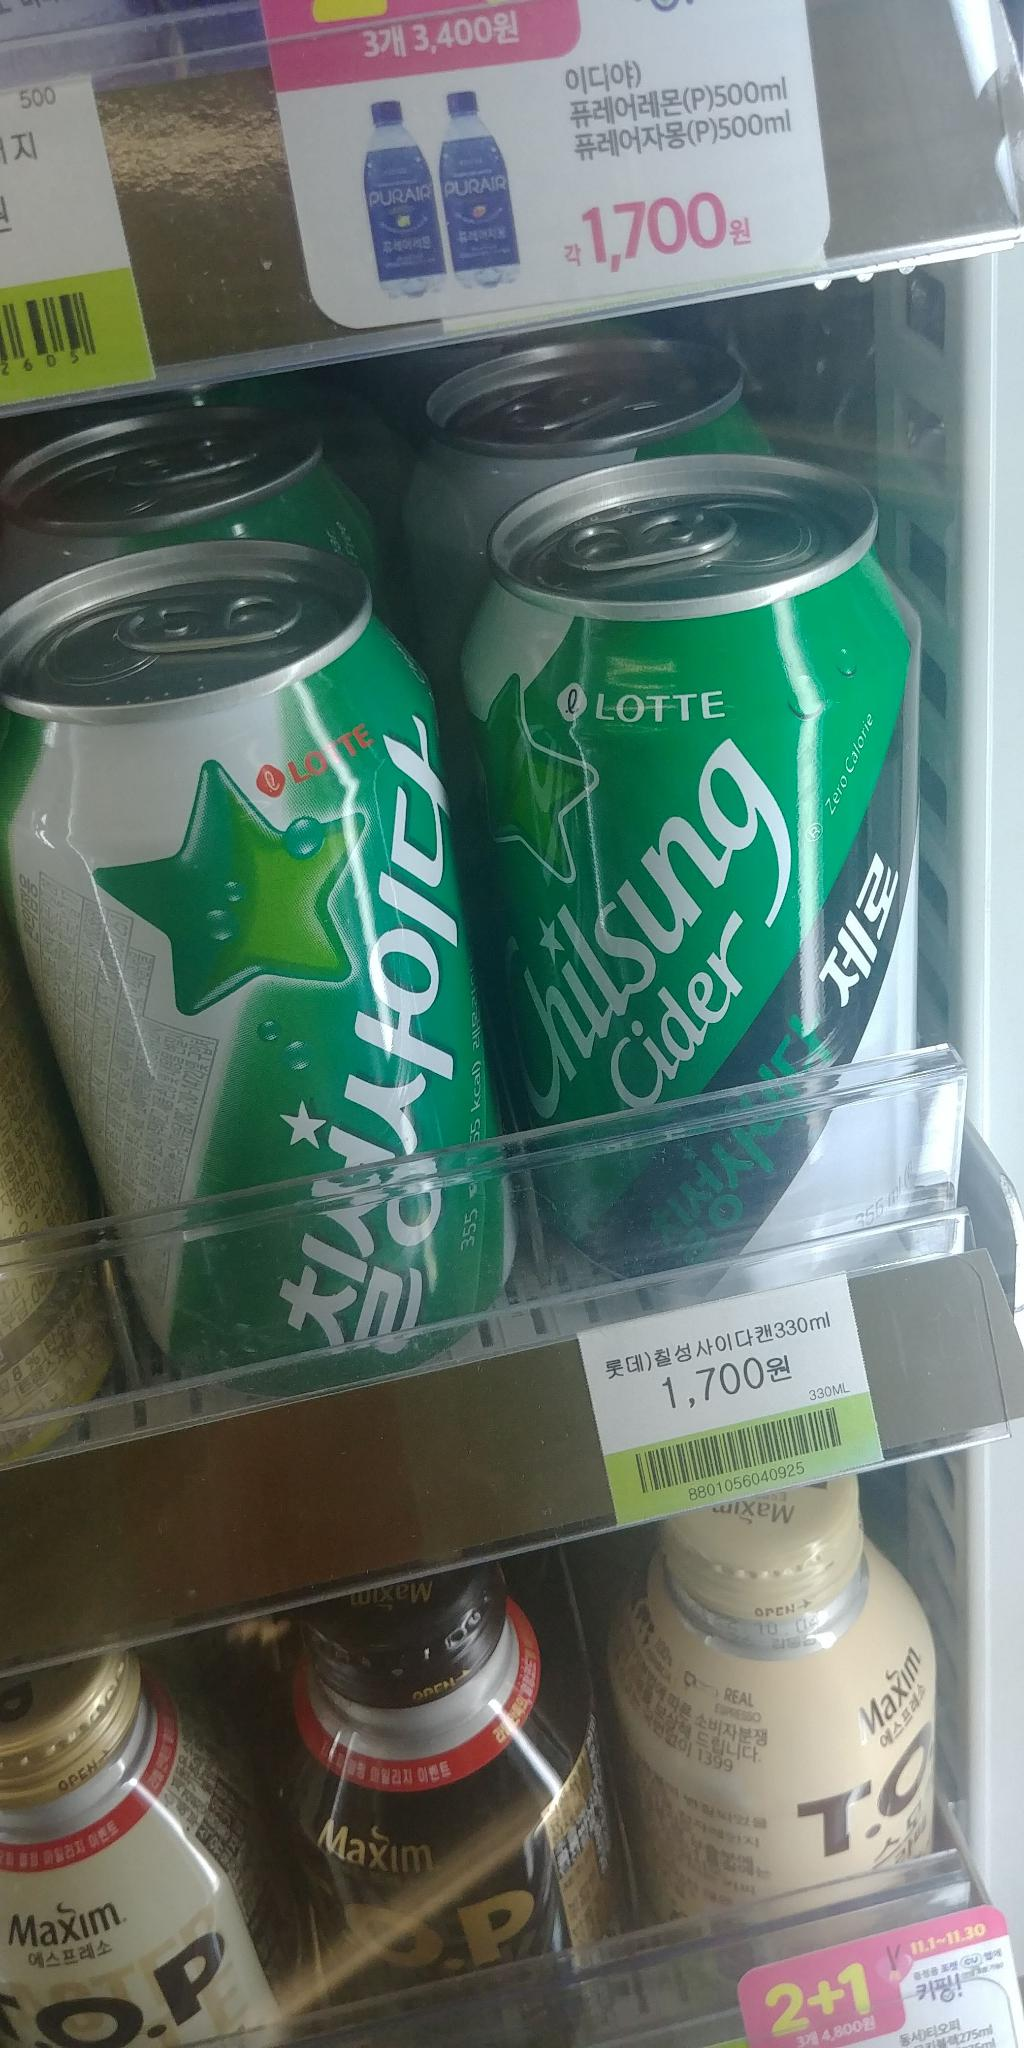chilsungcider: (3, 551, 539, 1392)
